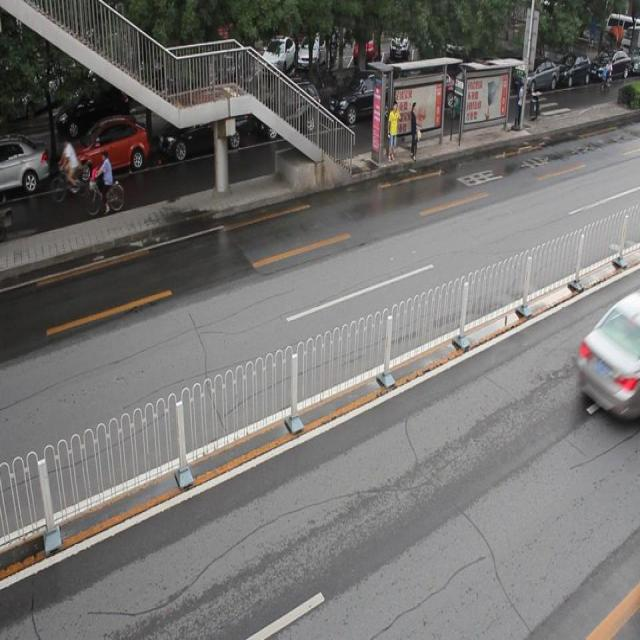car: (574, 289, 640, 422), (65, 113, 150, 177), (157, 106, 248, 165), (329, 72, 399, 130), (255, 79, 321, 140), (1, 137, 52, 196)
